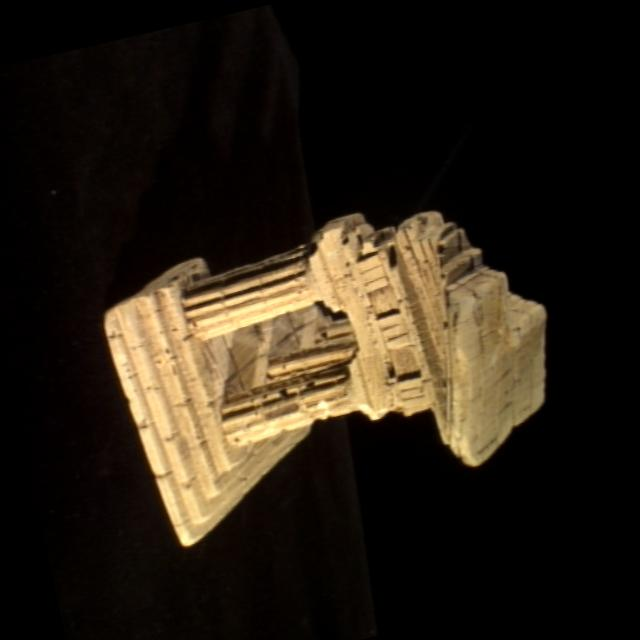Instance-Segmentation: (105, 211, 544, 545)
